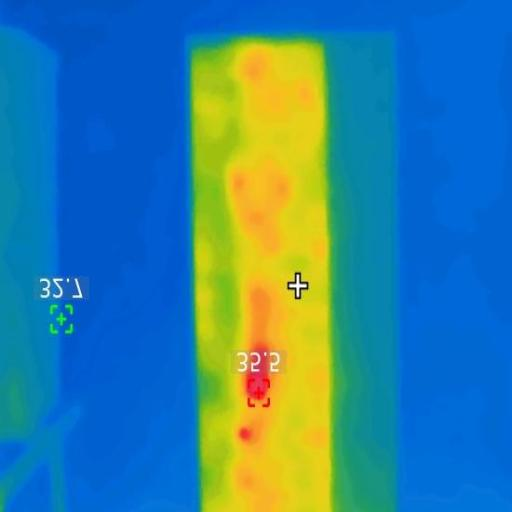hotspot: (244, 352, 271, 399)
